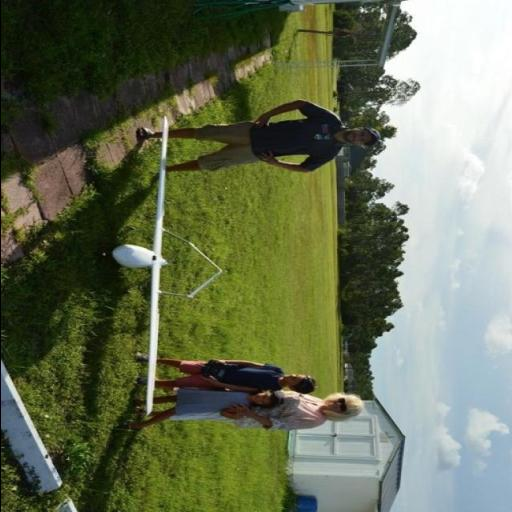uav: (109, 115, 221, 416)
